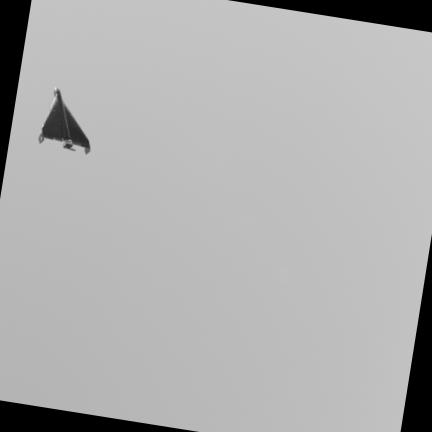Shahed: (38, 85, 92, 157)
